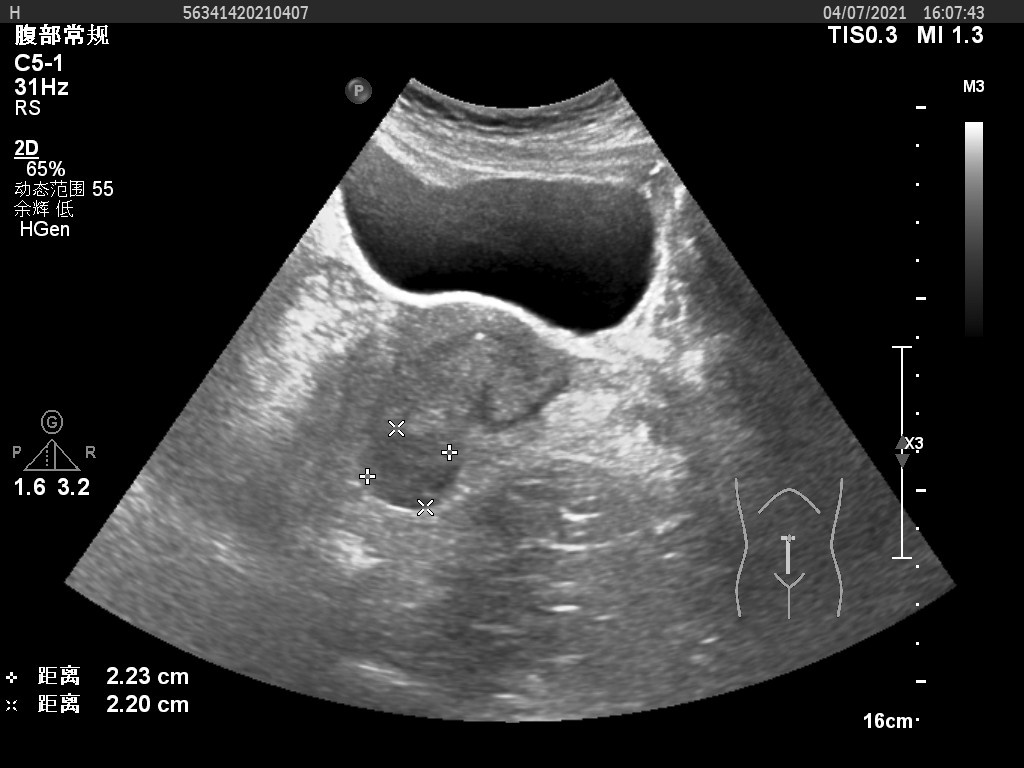肌瘤: (367, 427, 449, 508)
